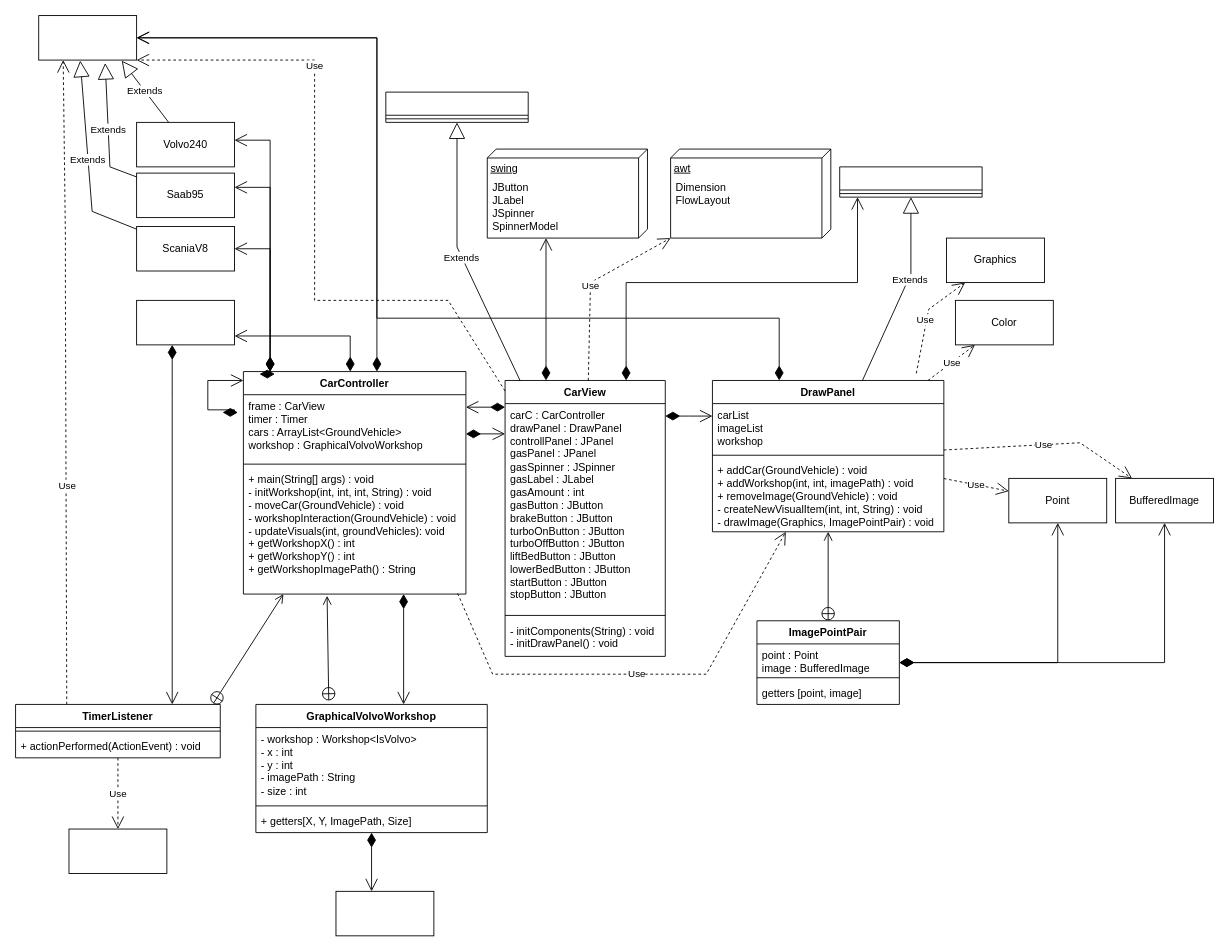
This 1229x951 diagram has some shape labels left out. Here are the shapes that lost their labels. From the top down, the centre of each, then its label:
[87,37]: GroundVehicle
[456,106]: JFrame
[910,181]: JPanel
[185,322]: Timer
[117,851]: ActionListener
[384,913]: Workshop <IsVolvo>
